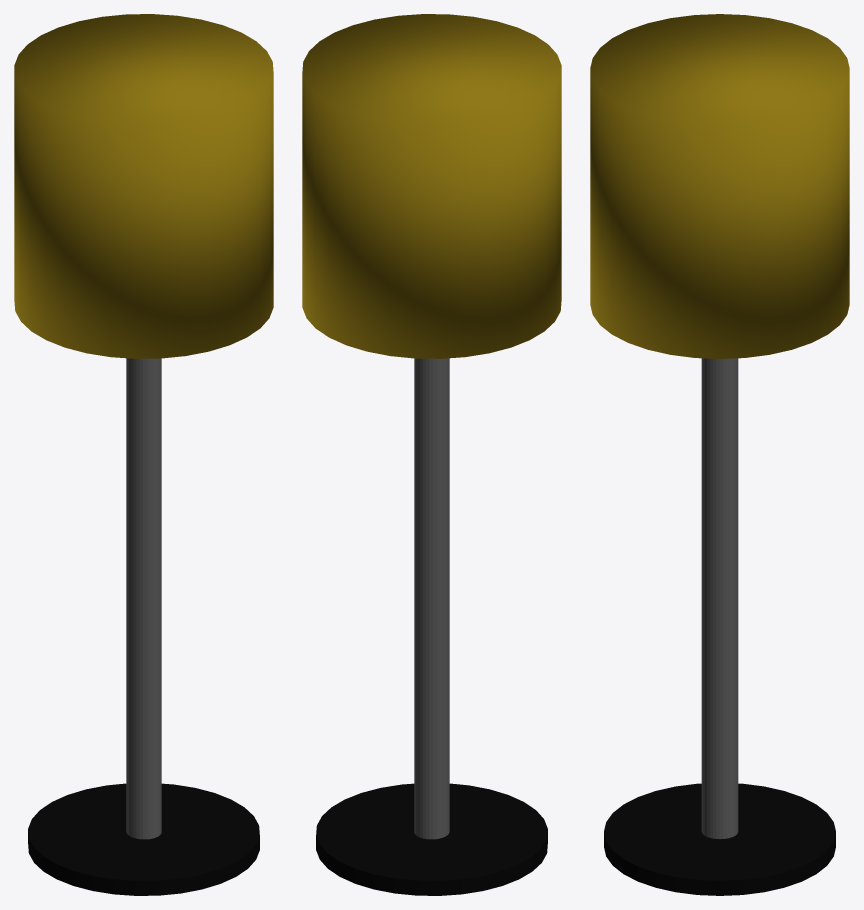
The model's file is Торшер3.fbx.
3 renders of one model, left to right at view 1: azimuth 30°, elevation 25°; view 2: azimuth 150°, elevation 25°; view 3: azimuth 270°, elevation 25°, orthographic.
Visible parts, largest first — view 1: Cylinder.002; view 2: Cylinder.002; view 3: Cylinder.002.
Boxes of the visible parts, box(x1,y1,x2,y2) form: Cylinder.002: box(14, 14, 273, 895); Cylinder.002: box(302, 14, 561, 895); Cylinder.002: box(590, 14, 849, 895).
Size of the model in its own units: 1501 by 4964 by 1501.
